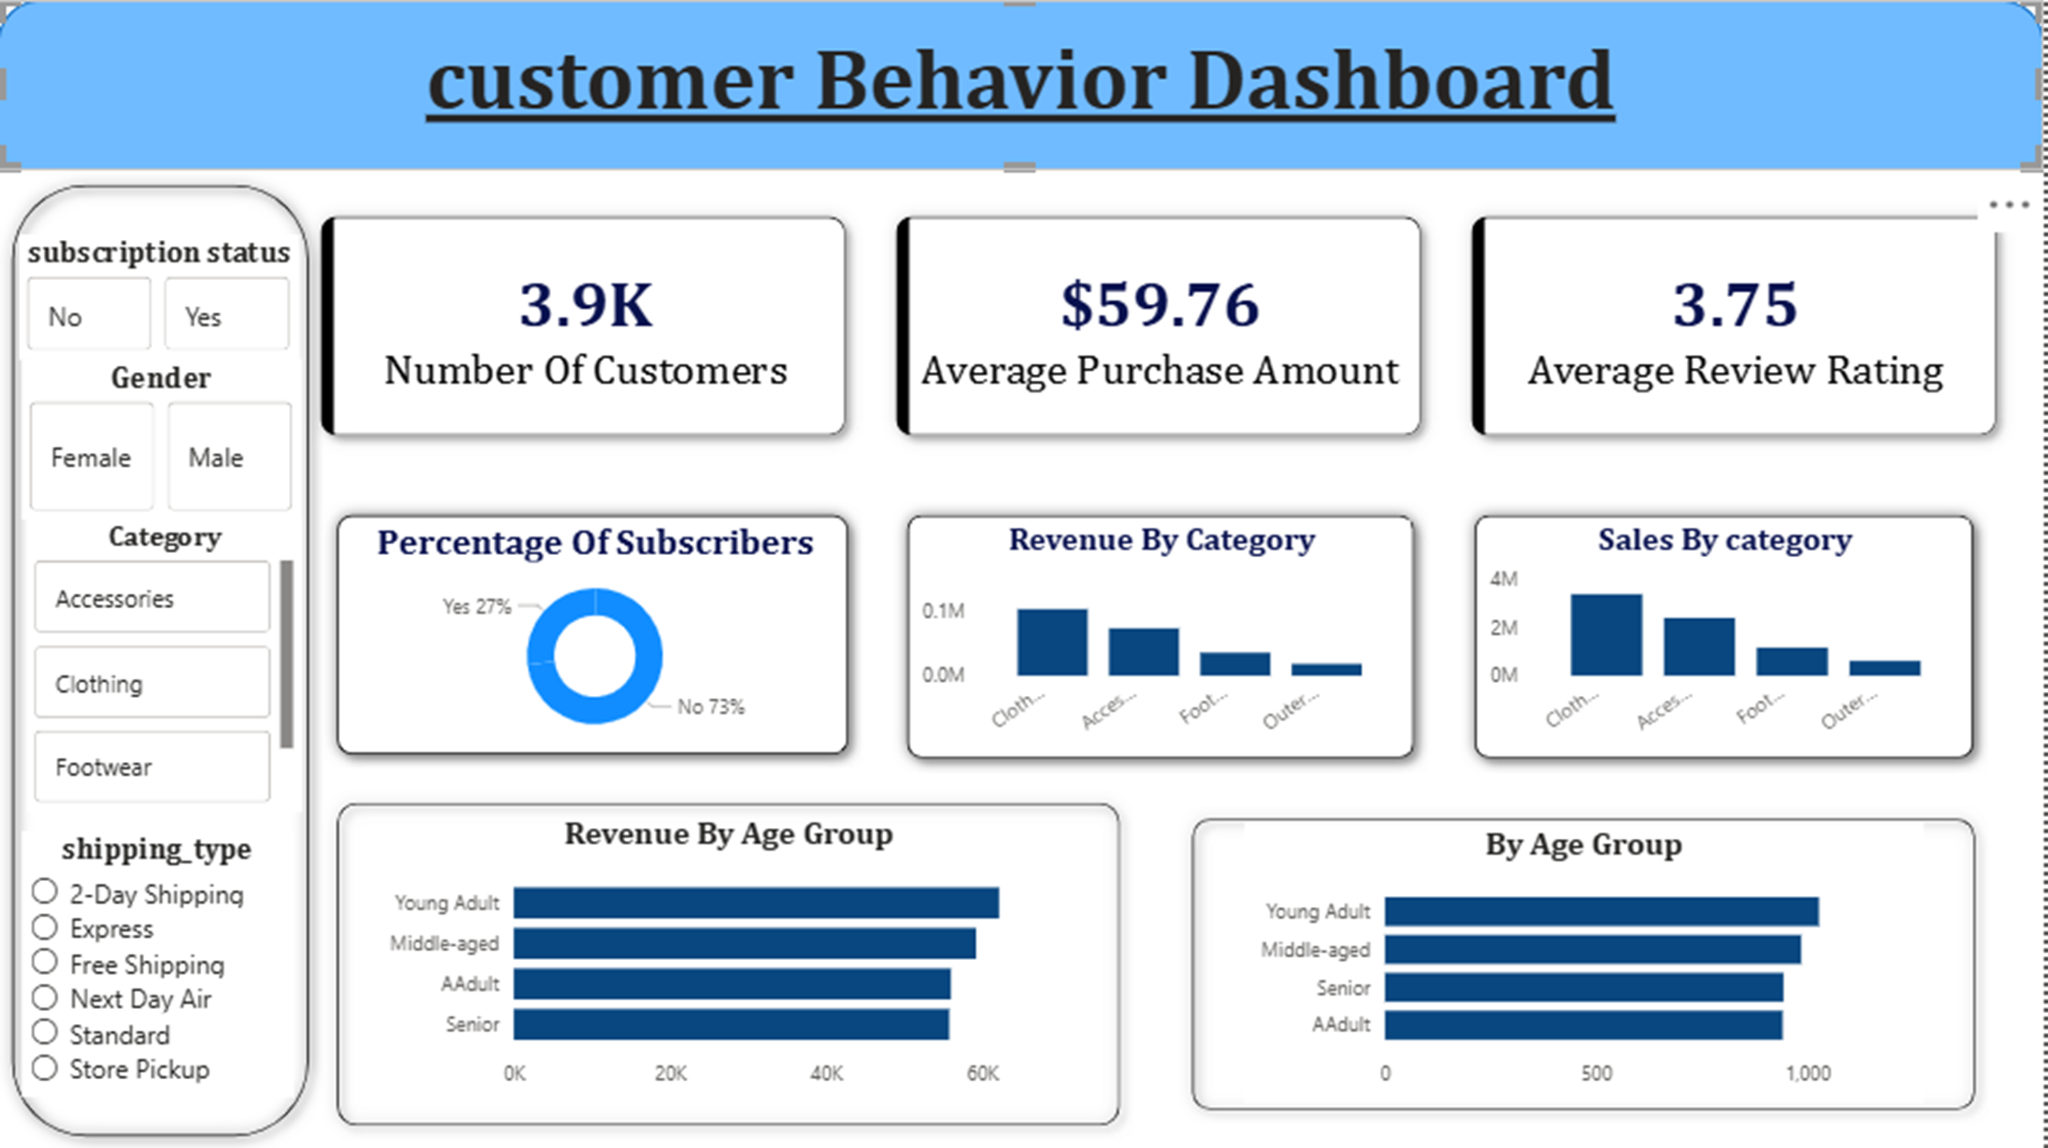

The page's visual inventory and layout, read from the dashboard file:
{"tool":"powerbi","page":{"name":"Page 1","canvas":[1280,720],"ordinal":0},"visuals":[{"type":"cardVisual","fields":{"Data":["customer_behavior customer.Number Of Customers","customer_behavior customer.Average Purchase Amount","customer_behavior customer.Average Review Rating"]},"box":[173.3,106.7,1106.7,195],"z":0},{"type":"shape","box":[0,0,1280,106.7],"z":1000},{"type":"textbox","box":[0,13.3,1280,93.3],"z":2000},{"type":"shape","box":[202.5,312.5,337.5,167.5],"z":3000},{"type":"donutChart","title":"Percentage Of Subscribers","fields":{"Category":["customer_behavior customer.subscription_status"],"Y":["CountNonNull(customer_behavior customer.customer_id)"]},"box":[220,325,307.5,145],"z":4000},{"type":"shape","box":[560,312.5,335,170],"z":5000},{"type":"shape","box":[915,312.5,330,170],"z":6000},{"type":"clusteredColumnChart","title":"Revenue By Category","fields":{"Y":["Sum(customer_behavior customer.purchase_amount_usd)"],"Category":["customer_behavior customer.category"]},"box":[572.5,325,310,145],"z":7000},{"type":"clusteredColumnChart","title":"Sales By category","fields":{"Y":["Sum(customer_behavior customer.customer_id)"],"Category":["customer_behavior customer.category"]},"box":[927.5,325,305,145],"z":8000},{"type":"shape","box":[0,106.7,203.3,613.3],"z":9000},{"type":"advancedSlicerVisual","title":"subscription status","fields":{"Values":["customer_behavior customer.subscription_status"]},"box":[13.3,146.7,175,78.3],"z":10000},{"type":"advancedSlicerVisual","title":"Gender","fields":{"Values":["customer_behavior customer.gender"]},"box":[15,225,175,100],"z":11000},{"type":"advancedSlicerVisual","title":"Category","fields":{"Values":["customer_behavior customer.category"]},"box":[18.3,325,171.7,183.3],"z":12000},{"type":"listSlicer","fields":{"Values":["customer_behavior customer.shipping_type"]},"box":[15,520,170,166.7],"z":13000},{"type":"clusteredBarChart","title":"Revenue By Age Group","fields":{"Y":["Sum(customer_behavior customer.purchase_amount_usd)"],"Category":["customer_behavior customer.age_group"]},"box":[235,507.5,445,182.5],"z":14000},{"type":"shape","box":[202.5,492.5,507.5,220],"z":15000},{"type":"shape","box":[737.5,502.5,507.5,200],"z":16000},{"type":"clusteredBarChart","title":" By Age Group","fields":{"Y":["Count(customer_behavior customer.customer_id)"],"Category":["customer_behavior customer.age_group"]},"box":[780,515,425,175],"z":17000}]}

Visuals, with their boxes in screenshot pixels (x1, y1, x2, y2), scaled from the page's 1280x720 canvas onto the 2048x1148 screenshot:
cardVisual - customer_behavior customer.Number Of Customers x customer_behavior customer.Average Purchase Amount: 277/170/2047/481
shape: 0/0/2047/170
textbox: 0/21/2047/170
shape: 324/498/864/765
"Percentage Of Subscribers" donutChart: 352/518/844/749
shape: 896/498/1432/769
shape: 1464/498/1992/769
"Revenue By Category" clusteredColumnChart: 916/518/1412/749
"Sales By category" clusteredColumnChart: 1484/518/1972/749
shape: 0/170/325/1147
"subscription status" advancedSlicerVisual: 21/234/301/359
"Gender" advancedSlicerVisual: 24/359/304/518
"Category" advancedSlicerVisual: 29/518/304/810
listSlicer - customer_behavior customer.shipping_type: 24/829/296/1095
"Revenue By Age Group" clusteredBarChart: 376/809/1088/1100
shape: 324/785/1136/1136
shape: 1180/801/1992/1120
" By Age Group" clusteredBarChart: 1248/821/1928/1100
